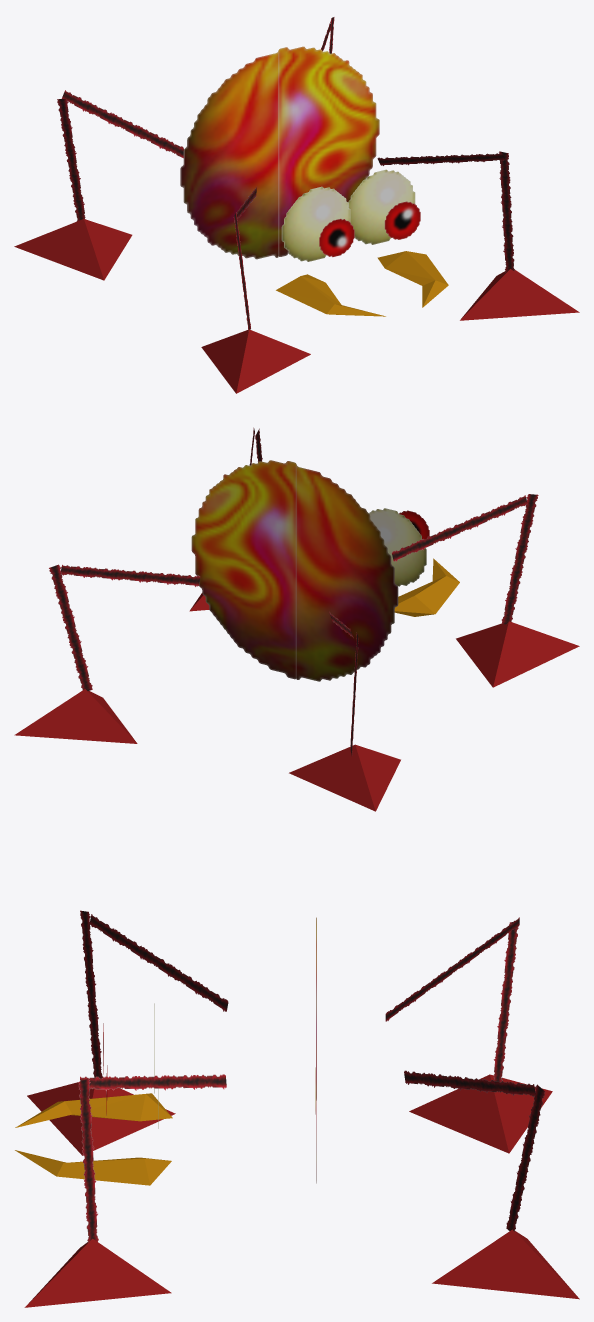
The model's file is scuttlebug.obj.
The picture shows the model from 3 angles, top to bottom: view 1: azimuth 30°, elevation 25°; view 2: azimuth 150°, elevation 25°; view 3: azimuth 270°, elevation 25°; orthographic projection. The views are drawn at different scales.
Bounding box in the file's own units: 3.75 × 2.35 × 4.11.
Materials: 14 (14 with a texture image).
